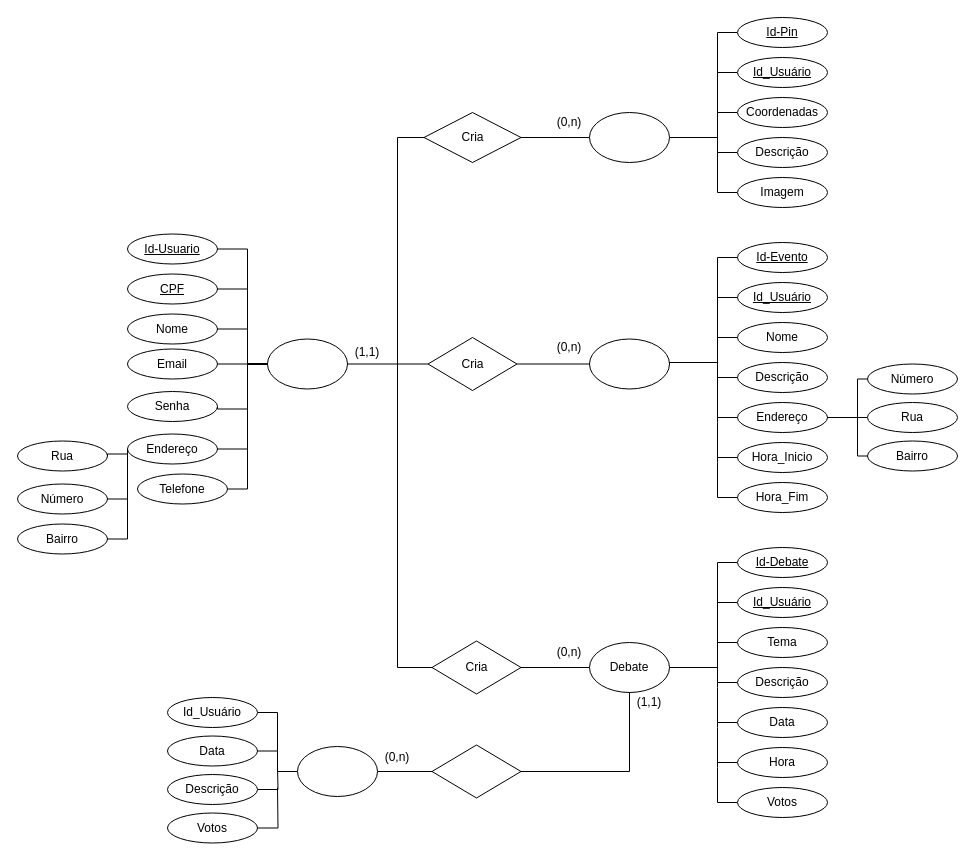
Some shapes in this 975 by 861 pixel diagram are drawn without their labels. The shapes that lost their labels are listed below. From the top down, each one's centre as x and y in pixels, then its label:
the point at 629,137: Pin
the point at 307,363: Usuário
the point at 629,363: Evento
the point at 337,771: Comentário
the point at 476,771: Possui
